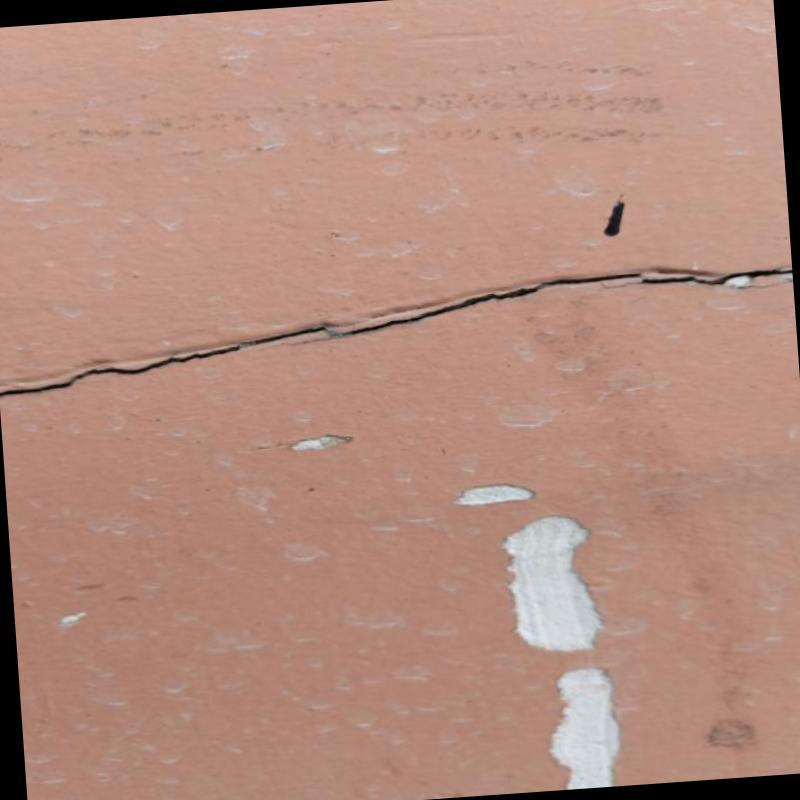pothole: (0, 267, 791, 395)
